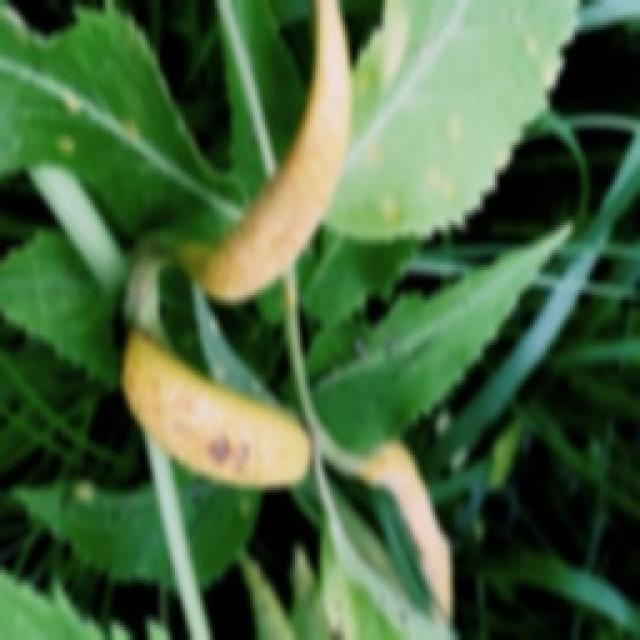Elderberry_rust: (175, 0, 355, 305), (118, 325, 310, 490)
